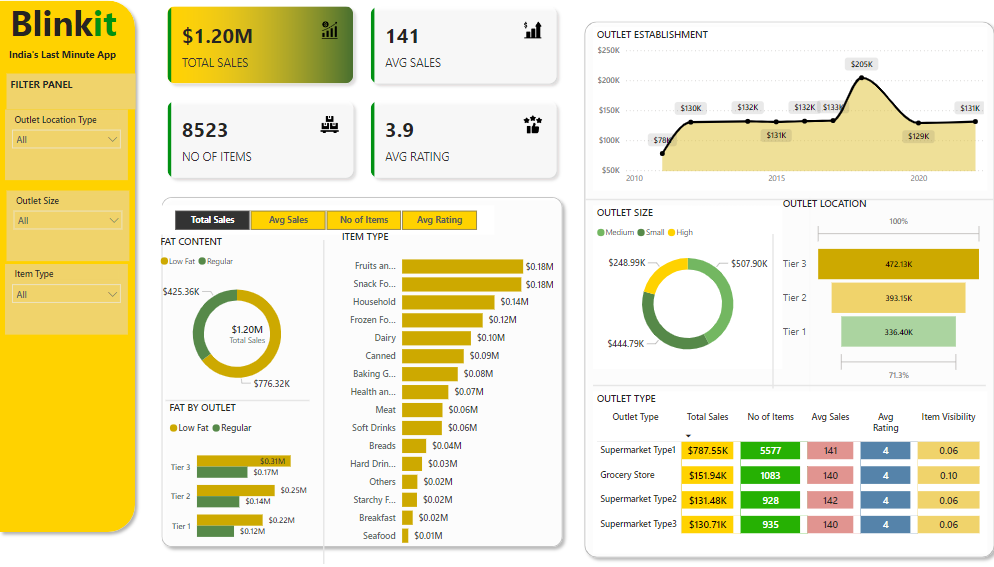

The dashboard page shown, as its layout file describes it:
{"tool":"powerbi","page":{"name":"Page 1","canvas":[1400,800],"ordinal":0},"visuals":[{"type":"shape","box":[0,0,204.6,750.3],"z":0},{"type":"textbox","box":[16.5,0,173.6,90.9],"z":1000},{"type":"textbox","box":[16.5,68.2,173.6,41.3],"z":2000},{"type":"cardVisual","fields":{"Data":["BlinkIT Grocery Data.Total Sales","BlinkIT Grocery Data.Avg Sales","BlinkIT Grocery Data.No of Items","BlinkIT Grocery Data.Avg Rating"]},"box":[223.2,0,570.5,270.8],"z":3000},{"type":"shape","box":[223.2,270.8,570.5,500.2],"z":4000},{"type":"donutChart","title":" FAT CONTENT","fields":{"Y":["BlinkIT Grocery Data.Total Sales"],"Category":["BlinkIT Grocery Data.Item Fat Content"]},"box":[225.3,330.7,221.2,229.4],"z":5000},{"type":"slicer","fields":{"Values":["Metrics.Metrics"]},"box":[225.3,291.4,465,40],"z":6000},{"type":"cardVisual","fields":{"Data":["BlinkIT Grocery Data.Total Sales"]},"box":[297.6,429.9,105.4,76.5],"z":7000},{"type":"clusteredBarChart","title":"FAT BY OUTLET","fields":{"Y":["BlinkIT Grocery Data.Total Sales"],"Category":["BlinkIT Grocery Data.Outlet Location Type"],"Series":["BlinkIT Grocery Data.Item Fat Content"]},"box":[237.7,561,219,210.6],"z":8000},{"type":"shape","box":[237.7,473.3,198.4,173.6],"z":9000},{"type":"shape","box":[911.5,279,427.9,471.3],"z":10000},{"type":"barChart","title":"ITEM TYPE ","fields":{"Y":["BlinkIT Grocery Data.Total Sales"],"Category":["BlinkIT Grocery Data.Item Type"]},"box":[475.4,324.5,301.8,446.5],"z":11000},{"type":"shape","box":[806.1,28.9,582.9,756.5],"z":12000},{"type":"lineChart","title":"OUTLET ESTABLISHMENT","fields":{"Y":["BlinkIT Grocery Data.Total Sales"],"Category":["BlinkIT Grocery Data.Outlet Establishment Year"]},"box":[826.8,45.5,543.6,225.3],"z":12001},{"type":"shape","box":[816.4,241.8,562.2,82.7],"z":12003},{"type":"donutChart","title":"OUTLET SIZE","fields":{"Y":["BlinkIT Grocery Data.Total Sales"],"Category":["BlinkIT Grocery Data.Outlet Size"]},"box":[826.8,291.4,260.4,225.3],"z":12004},{"type":"shape","box":[793.7,330.7,562.2,212.9],"z":12005},{"type":"shape","box":[186,339,539.5,446.5],"z":12006},{"type":"funnel","title":"OUTLET LOCATION","fields":{"Category":["BlinkIT Grocery Data.Outlet Location Type"],"Y":["Sum(BlinkIT Grocery Data.Sales)"]},"box":[1083.1,279,285.2,260.4],"z":12007},{"type":"shape","box":[826.8,498.1,541.5,82.7],"z":12008},{"type":"pivotTable","title":"OUTLET TYPE","fields":{"Rows":["BlinkIT Grocery Data.Outlet Type"],"Values":["BlinkIT Grocery Data.Total Sales","BlinkIT Grocery Data.No of Items","BlinkIT Grocery Data.Avg Sales","BlinkIT Grocery Data.Avg Rating","Avg(BlinkIT Grocery Data.Item Visibility)"]},"box":[826.8,547.7,543.6,223.2],"z":12009},{"type":"slicer","fields":{"Values":["BlinkIT Grocery Data.Outlet Location Type"]},"box":[16.5,159.2,169.5,97.1],"z":12010},{"type":"slicer","fields":{"Values":["BlinkIT Grocery Data.Outlet Size"]},"box":[18.6,270.8,169.5,97.1],"z":12011},{"type":"slicer","fields":{"Values":["BlinkIT Grocery Data.Item Type"]},"box":[16.5,372.1,169.5,97.1],"z":12012},{"type":"textbox","box":[18.6,109.5,177.8,49.6],"z":12013}]}

Visuals, with their boxes in screenshot pixels (x1, y1, x2, y2), scaled from the page's 1400x800 canvas onto the 994x567 screenshot:
shape: 0:0:145:532
textbox: 12:0:135:64
textbox: 12:48:135:78
cardVisual - BlinkIT Grocery Data.Total Sales x BlinkIT Grocery Data.Avg Sales: 158:0:564:192
shape: 158:192:564:546
" FAT CONTENT" donutChart: 160:234:317:397
slicer - Metrics.Metrics: 160:207:490:235
cardVisual - BlinkIT Grocery Data.Total Sales: 211:305:286:359
"FAT BY OUTLET" clusteredBarChart: 169:398:324:547
shape: 169:335:310:458
shape: 647:198:951:532
"ITEM TYPE " barChart: 338:230:552:546
shape: 572:20:986:557
"OUTLET ESTABLISHMENT" lineChart: 587:32:973:192
shape: 580:171:979:230
"OUTLET SIZE" donutChart: 587:207:772:366
shape: 564:234:963:385
shape: 132:240:515:557
"OUTLET LOCATION" funnel: 769:198:971:382
shape: 587:353:971:412
"OUTLET TYPE" pivotTable: 587:388:973:546
slicer - BlinkIT Grocery Data.Outlet Location Type: 12:113:132:182
slicer - BlinkIT Grocery Data.Outlet Size: 13:192:134:261
slicer - BlinkIT Grocery Data.Item Type: 12:264:132:333
textbox: 13:78:139:113
